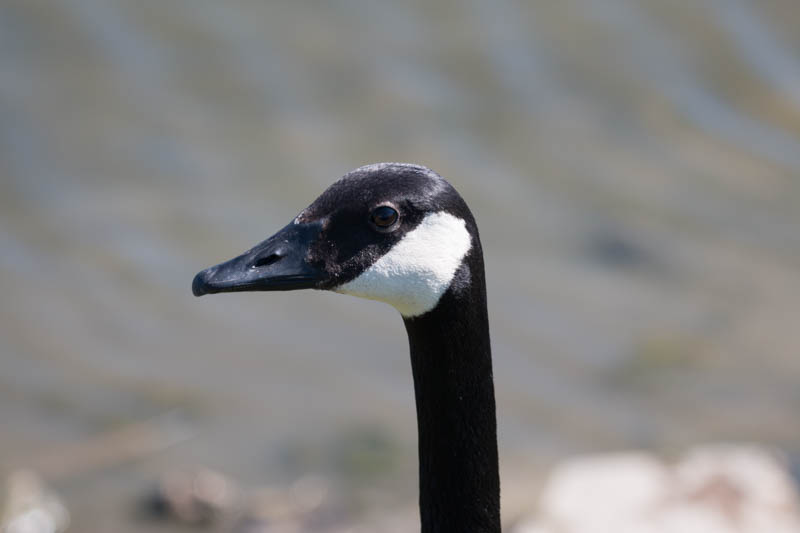goose-head: (191, 163, 488, 317)
